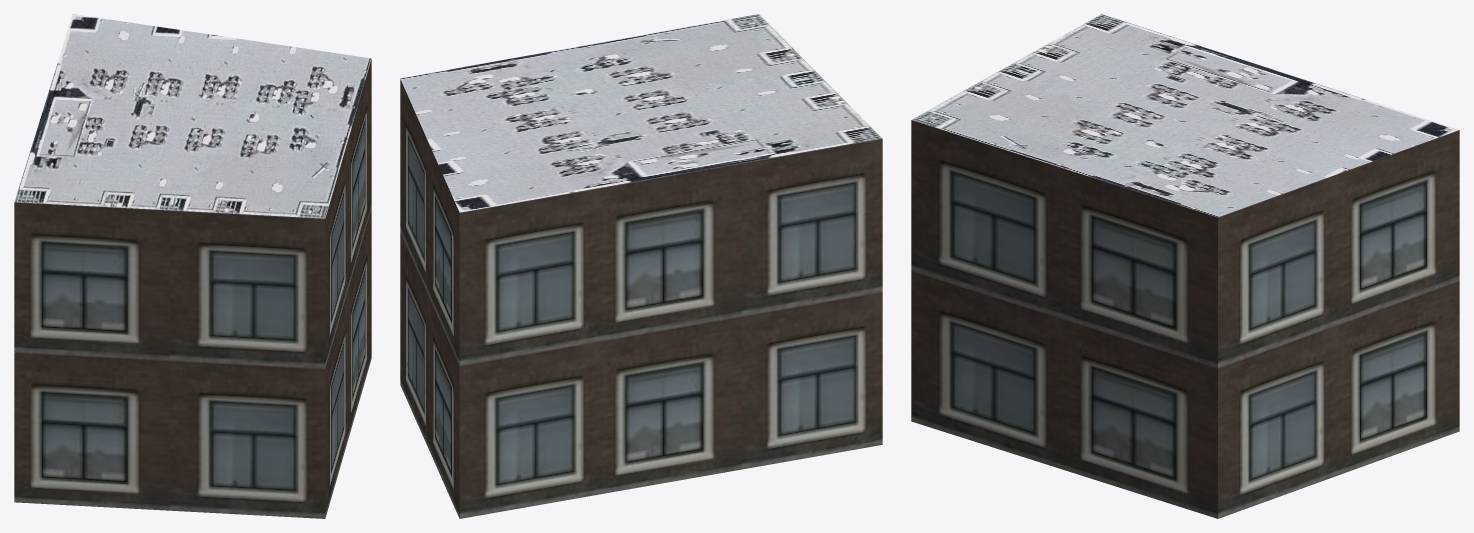
Rendered from ResTex__3774.fbx.
3 renders of one model, left to right at view 1: azimuth 30°, elevation 25°; view 2: azimuth 150°, elevation 25°; view 3: azimuth 270°, elevation 25°, orthographic. The views are drawn at different scales.
Visible parts, largest first — view 1: CityEngineMaterial_16_m, CityEngineMaterial_15_m; view 2: CityEngineMaterial_16_m, CityEngineMaterial_15_m; view 3: CityEngineMaterial_16_m, CityEngineMaterial_15_m.
Boxes of the visible parts, x1,y1,x2,y2 form: CityEngineMaterial_16_m: [14, 59, 371, 518]; CityEngineMaterial_15_m: [14, 14, 371, 218]; CityEngineMaterial_16_m: [400, 79, 882, 518]; CityEngineMaterial_15_m: [400, 14, 882, 212]; CityEngineMaterial_16_m: [911, 120, 1459, 518]; CityEngineMaterial_15_m: [912, 14, 1458, 217].
Size of the model in its own units: 8.68 by 6 by 9.89.
2 materials, 2 textured.
